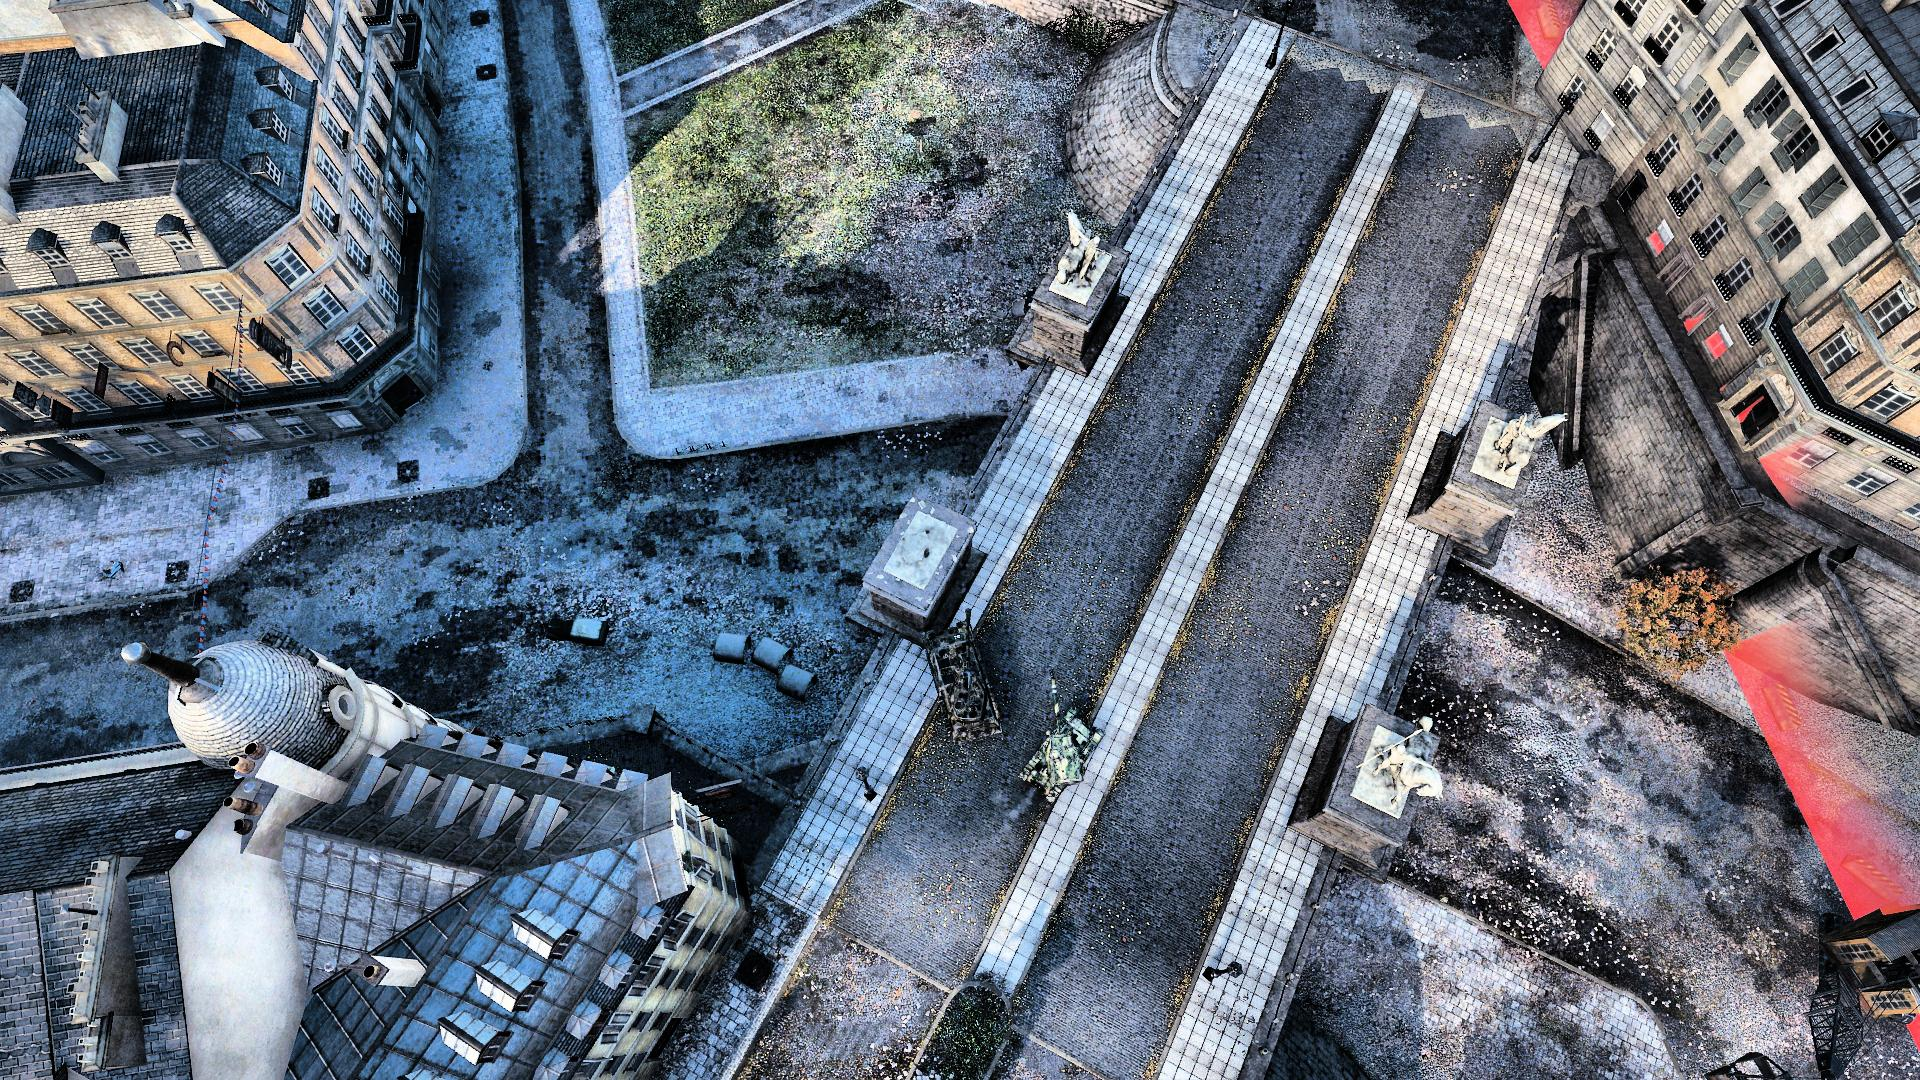military-vehicle: (1017, 670, 1103, 800), (928, 608, 1005, 743)
